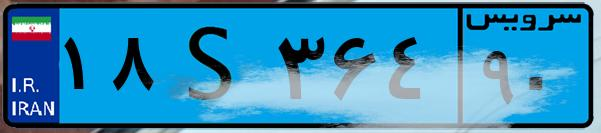0: (525, 38, 570, 115)
1: (57, 26, 110, 100)
3: (270, 28, 330, 110)
4: (385, 28, 445, 110)
6: (330, 28, 385, 110)
8: (110, 28, 158, 98)
9: (475, 38, 525, 113)
S: (158, 12, 270, 120)
